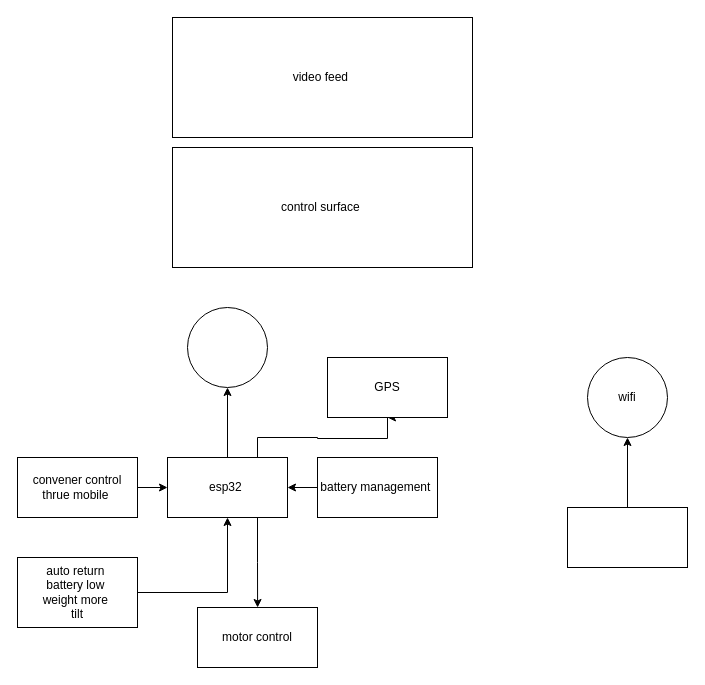
Image size: 705x685. Some labels were removed from this diagram. Here are the shapes that lost their labels. From the top down, the centre of each, then its label:
At [227,347]: "control true mobile".
At [627,537]: "wifi camera".
